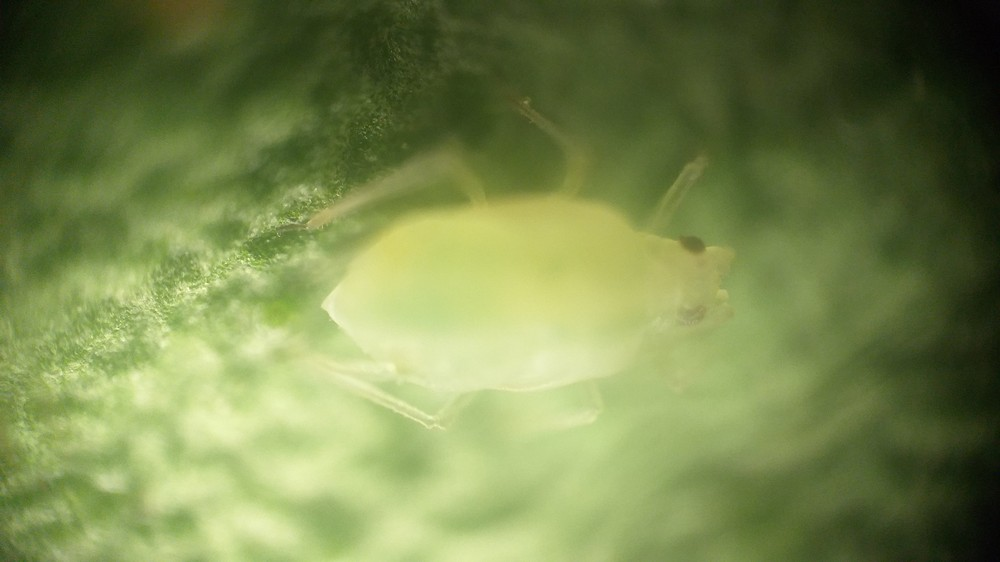Pulgon: (292, 87, 785, 478)
